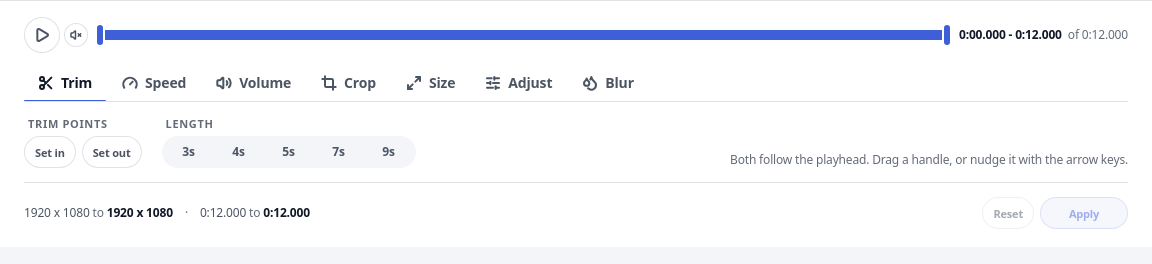
VideoEditPanel › tools › shows one tool at a time
This screenshot has width=1152, height=264.
Click the button "Speed" at (154, 84), box [108, 67, 200, 101]
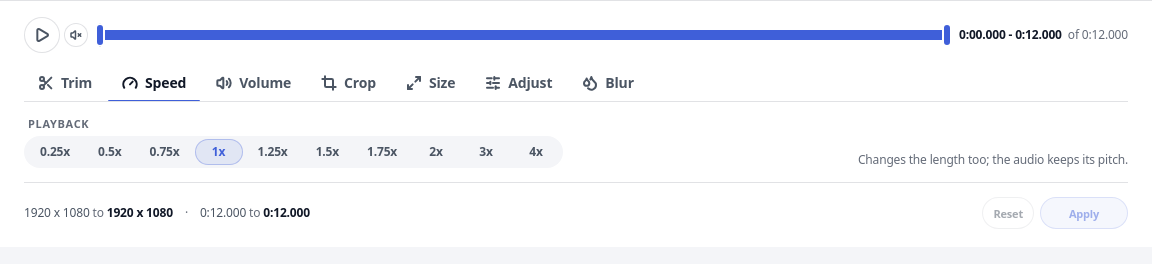
Result: the button "2x" is shown at [412, 139, 460, 165]
Result: the button "Set in" is gone
